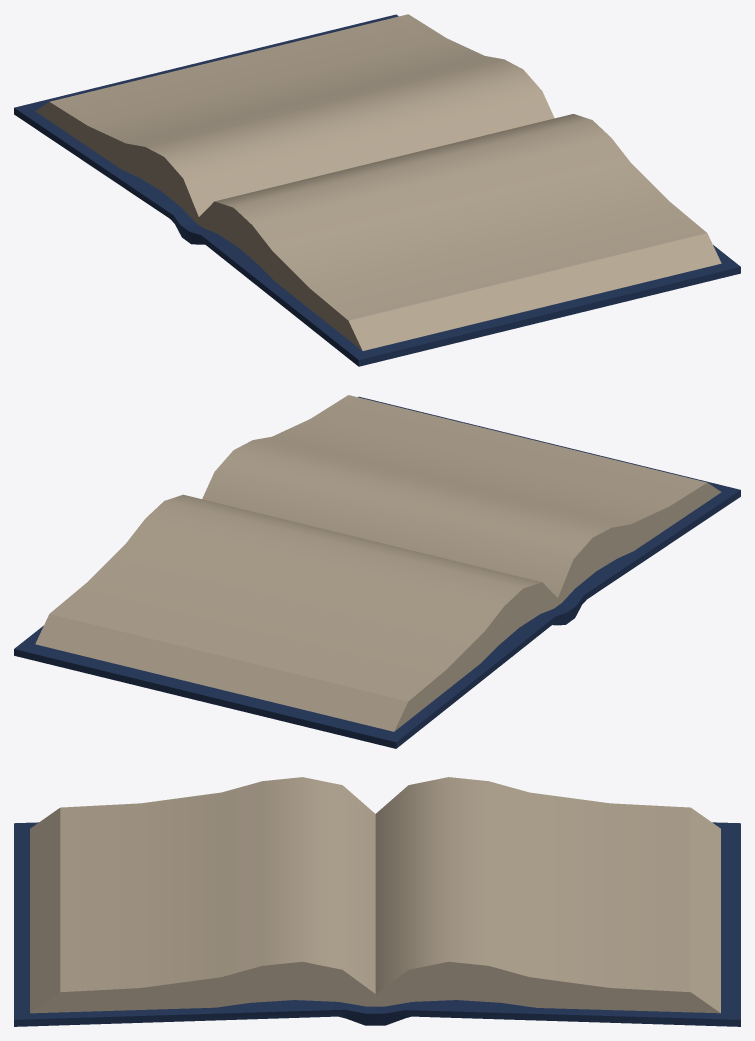
The model's file is S_Book.fbx.
3 renders of one model, top to bottom at view 1: azimuth 30°, elevation 25°; view 2: azimuth 150°, elevation 25°; view 3: azimuth 270°, elevation 25°, orthographic. The views are drawn at different scales.
Parts seen in each view (by area): view 1: S_Book; view 2: S_Book; view 3: S_Book.
Part boxes in pixels (x1,y1,x2,y2): S_Book: (14, 14, 740, 366); S_Book: (14, 395, 740, 748); S_Book: (14, 777, 740, 1026).
Size of the model in its own units: 34.09 by 4.74 by 52.72.
